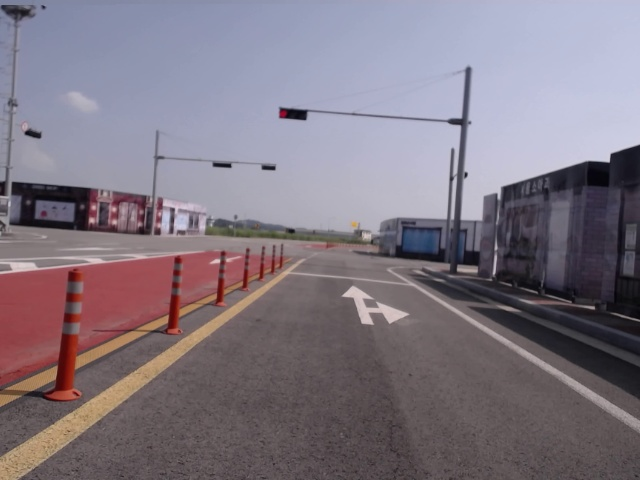red_3: (279, 108, 308, 120)
